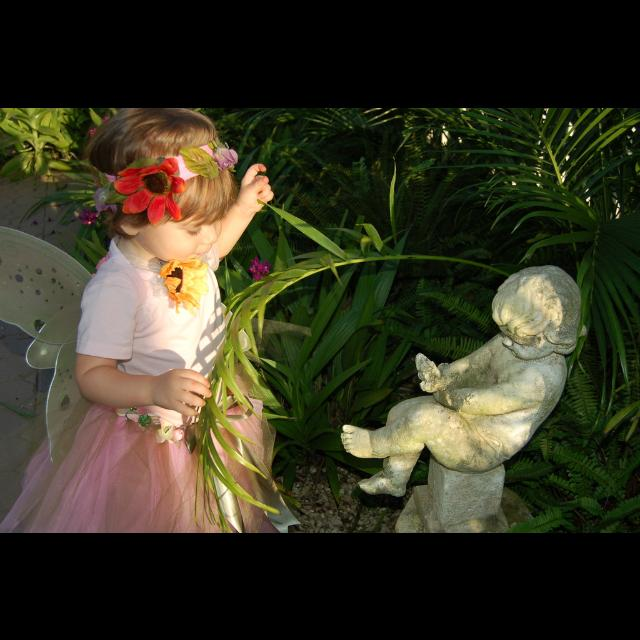Flower: (90, 129, 214, 239)
